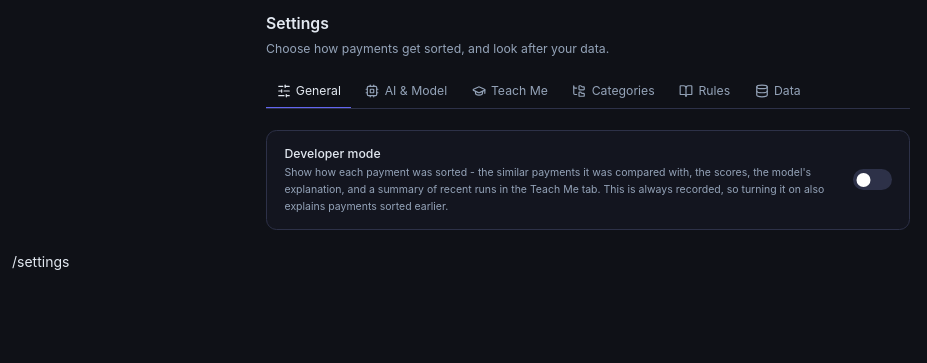
Settings › shows when to ask you, as a slider, on the Teach Me tab
Expected: the text "Developer mode" is shown, [284,146,381,160]
Click the button "Teach Me".
click(510, 92)  # box [461,75,558,108]
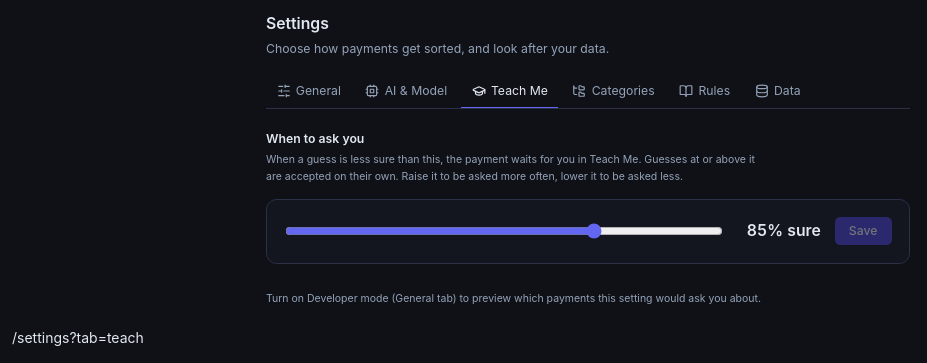
Now the heading "When to ask you" is shown, box [266,130,364,146]
Now the slider is shown, box [284,223,723,239]
Now the text "85% sure" is shown, box [737,219,821,243]
